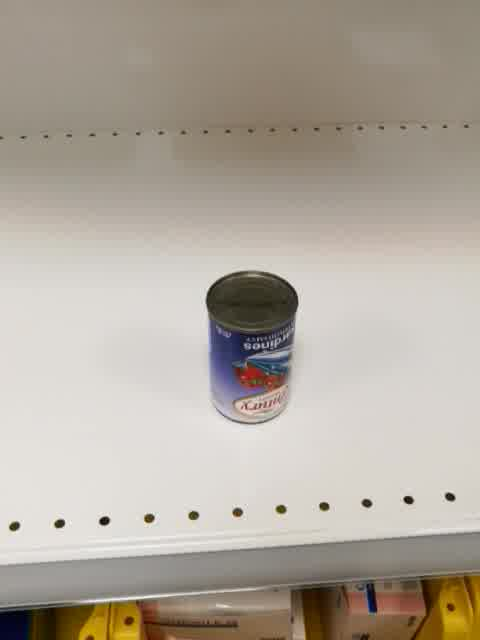sardine: (204, 269, 299, 426)
